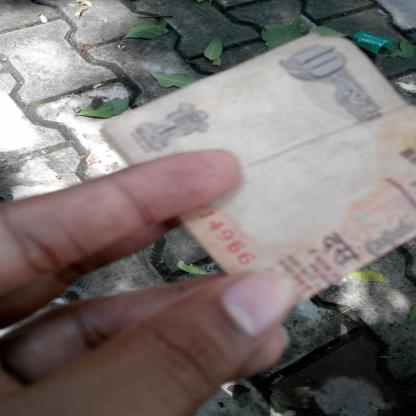Old10Front: (99, 31, 416, 302)
